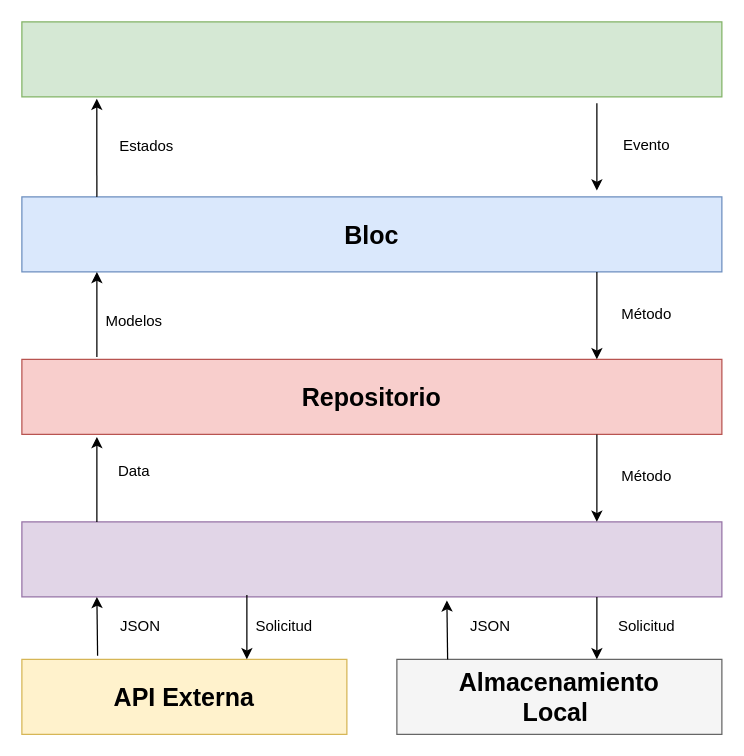
The diagram is 744 pixels wide and 756 high, and some of its shapes have lost their labels. Each missing label, with the centre of its shape:
Servicios: point 371,559
Vista: point 371,59
